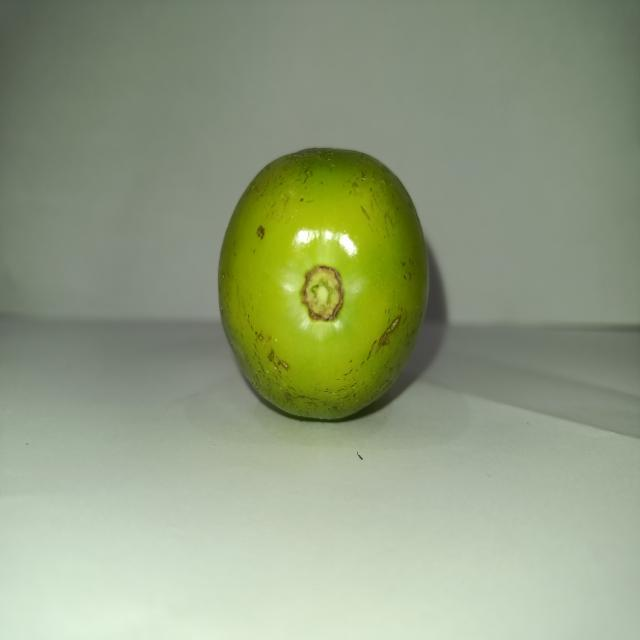Red: (216, 145, 430, 422)
